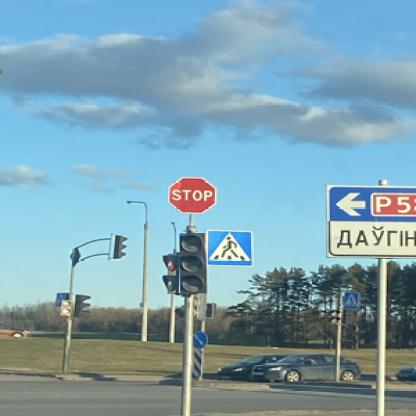crosswalk: (205, 231, 250, 265), (341, 290, 358, 308)
stop: (166, 177, 215, 213)
trafficlight: (175, 231, 205, 293), (160, 252, 176, 291), (108, 232, 124, 256), (75, 291, 90, 316), (58, 300, 70, 315)
